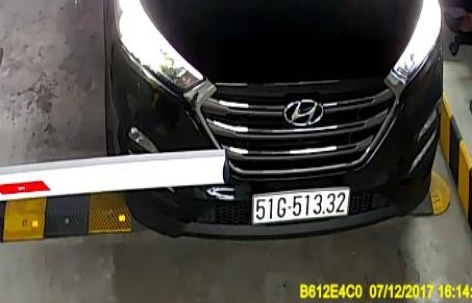plate: (246, 183, 359, 240)
